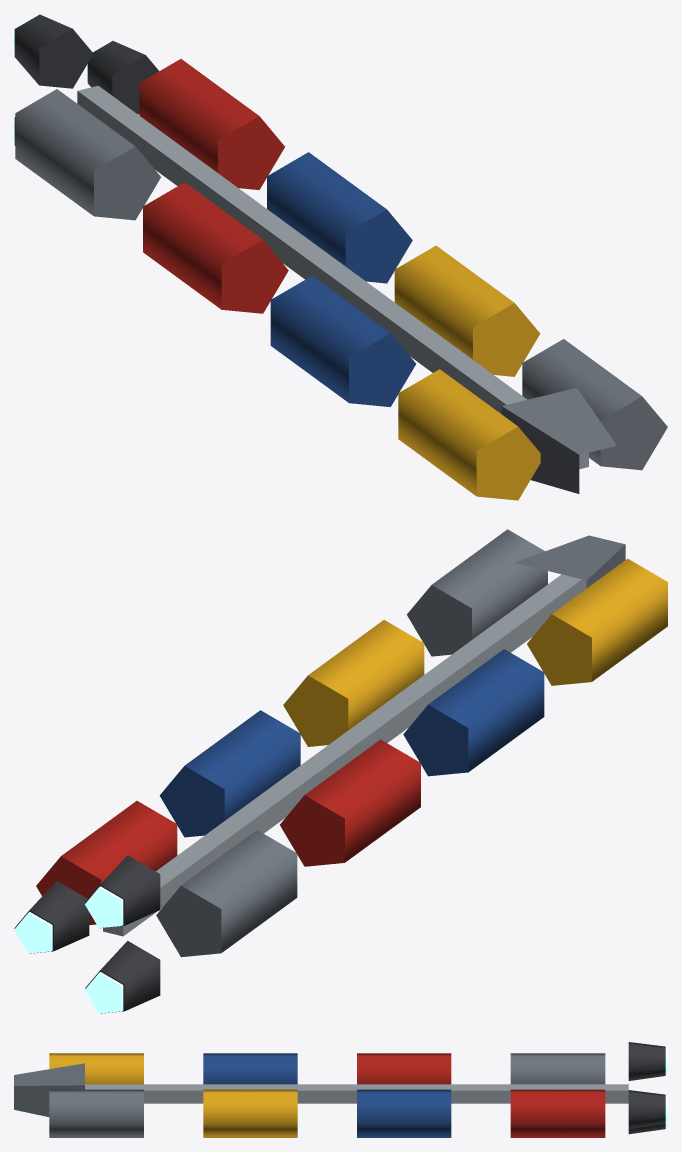
The model's file is space_ship_logistics_mk3_lod1.glb.
3 views of the same model, one above another, from view 1: azimuth 30°, elevation 25°; view 2: azimuth 150°, elevation 25°; view 3: azimuth 270°, elevation 25° (orthographic). The views are drawn at different scales.
Parts seen in each view (by area): view 1: body, pod_2_0, pod_0_0, pod_1_0, pod_3_0, pod_2_1, pod_0_1, pod_1_1, pod_3_1, engine_1, engine_0; view 2: body, pod_0_0, pod_2_0, pod_1_0, pod_3_0, pod_2_1, pod_1_1, pod_3_1, pod_0_1, engine_1, engine_2, engine_0; view 3: body, pod_0_1, pod_2_1, pod_1_1, pod_3_1, pod_0_0, pod_2_0, pod_1_0, pod_3_0, engine_1, engine_0, engine_2.
Part boxes in pixels (<box>): body: <box>77,85,616,493</box>; pod_2_0: <box>270,276,415,406</box>; pod_0_0: <box>15,89,160,220</box>; pod_1_0: <box>143,182,288,313</box>; pod_3_0: <box>398,369,540,500</box>; pod_2_1: <box>394,245,540,376</box>; pod_0_1: <box>139,59,284,189</box>; pod_1_1: <box>267,152,412,283</box>; pod_3_1: <box>522,339,667,470</box>; engine_1: <box>14,14,93,88</box>; engine_0: <box>87,41,158,114</box>; body: <box>103,535,625,936</box>; pod_0_0: <box>156,830,297,957</box>; pod_2_0: <box>403,649,544,776</box>; pod_1_0: <box>280,739,420,866</box>; pod_3_0: <box>527,558,667,685</box>; pod_2_1: <box>283,620,424,746</box>; pod_1_1: <box>159,710,300,837</box>; pod_3_1: <box>407,529,547,656</box>; pod_0_1: <box>36,801,177,925</box>; engine_1: <box>85,855,160,928</box>; engine_2: <box>85,940,160,1013</box>; engine_0: <box>14,881,89,953</box>; body: <box>14,1063,628,1116</box>; pod_0_1: <box>510,1089,605,1137</box>; pod_2_1: <box>203,1089,297,1137</box>; pod_1_1: <box>357,1089,451,1137</box>; pod_3_1: <box>49,1089,143,1137</box>; pod_0_0: <box>510,1053,605,1084</box>; pod_2_0: <box>203,1053,297,1084</box>; pod_1_0: <box>357,1053,451,1084</box>; pod_3_0: <box>49,1053,143,1084</box>; engine_1: <box>628,1042,667,1080</box>; engine_0: <box>628,1090,667,1128</box>; engine_2: <box>628,1123,667,1134</box>.
Size of the model in its own units: 7.26 by 5.37 by 35.67.
